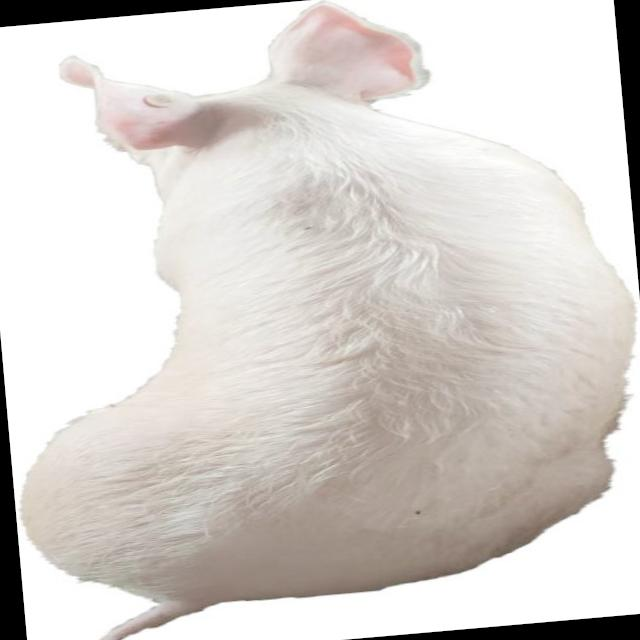pig: (22, 3, 634, 640)
